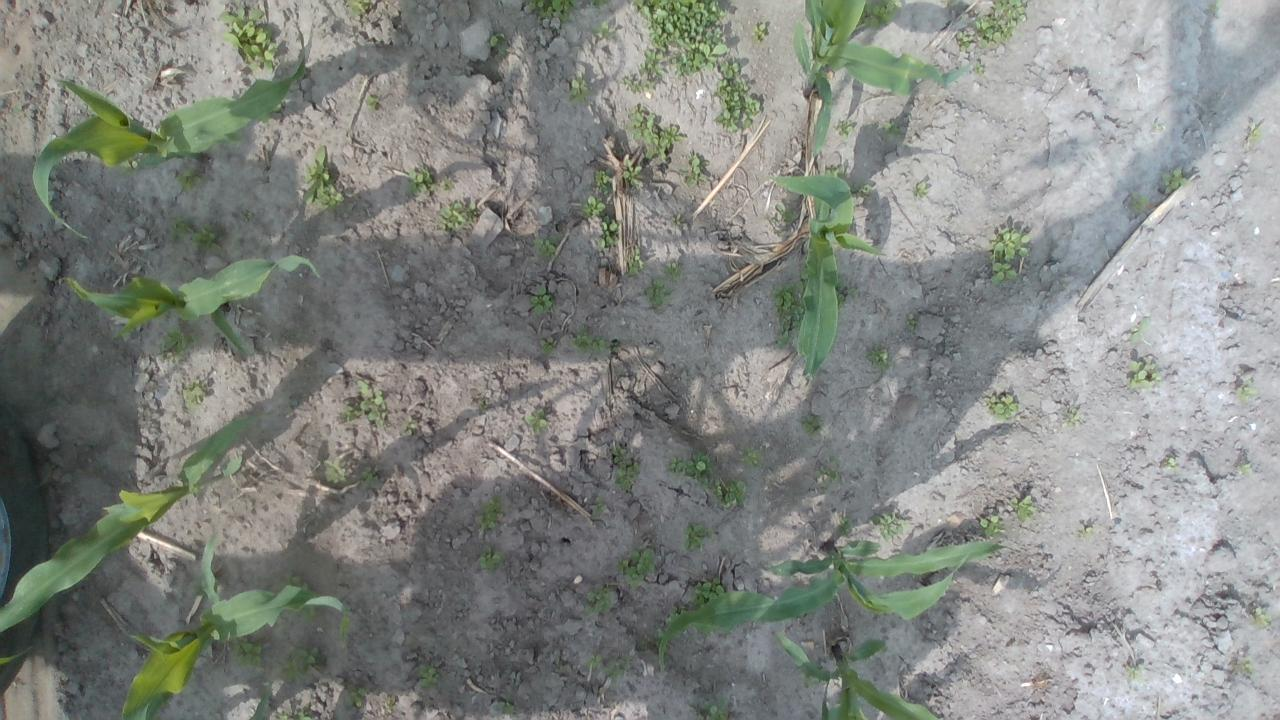Maize: (0, 414, 265, 665), (29, 27, 306, 242), (654, 539, 1001, 672), (118, 532, 350, 720), (59, 252, 323, 354), (795, 0, 958, 159), (778, 169, 886, 394), (772, 627, 945, 720), (242, 682, 274, 720)
Weeds: (632, 0, 730, 83), (216, 6, 276, 72), (712, 59, 762, 134), (625, 105, 685, 163), (300, 144, 346, 210), (984, 227, 1032, 285), (972, 0, 1026, 49), (770, 281, 806, 349), (278, 644, 326, 684), (666, 450, 716, 486), (156, 327, 200, 365), (616, 546, 654, 589), (358, 380, 388, 429), (570, 327, 620, 356), (612, 442, 640, 492), (524, 0, 580, 24), (870, 511, 912, 543), (228, 636, 266, 671), (705, 477, 745, 510), (857, 0, 901, 28), (688, 576, 724, 610), (1126, 357, 1161, 390), (982, 392, 1019, 422), (176, 166, 214, 194), (474, 494, 502, 532), (437, 202, 475, 230), (190, 222, 222, 254), (682, 521, 714, 553), (689, 696, 730, 720), (180, 378, 208, 412), (768, 204, 796, 238), (815, 455, 840, 493), (584, 584, 613, 616), (833, 278, 860, 312), (678, 153, 706, 185), (408, 166, 437, 195), (566, 71, 590, 105), (474, 546, 503, 574), (603, 656, 632, 684), (646, 278, 674, 307), (866, 343, 892, 373), (530, 284, 554, 316), (320, 458, 348, 485), (166, 214, 193, 241), (1009, 495, 1036, 522), (534, 234, 560, 262), (598, 216, 618, 250), (1162, 168, 1188, 194), (117, 152, 142, 178), (1234, 378, 1260, 403), (525, 408, 548, 435), (980, 514, 1005, 538), (278, 570, 308, 590), (580, 195, 606, 218), (620, 75, 654, 92), (344, 684, 368, 708), (1128, 317, 1151, 342), (486, 31, 508, 57), (624, 160, 644, 188), (418, 664, 439, 690), (261, 102, 283, 126), (800, 415, 824, 437), (626, 248, 644, 276), (593, 168, 612, 194), (740, 446, 764, 466), (344, 0, 372, 17), (1250, 606, 1272, 627), (592, 20, 615, 40), (849, 178, 873, 197), (1061, 405, 1080, 428), (664, 606, 685, 626), (835, 120, 855, 141), (360, 464, 379, 486), (836, 514, 852, 538), (799, 670, 820, 688), (1132, 190, 1148, 213), (400, 416, 418, 436), (882, 120, 902, 138), (956, 30, 972, 52), (339, 404, 359, 421), (663, 262, 680, 282), (1126, 665, 1144, 683), (1247, 121, 1262, 142), (299, 606, 316, 624), (752, 23, 766, 44), (585, 654, 603, 670), (1076, 522, 1094, 538), (540, 336, 556, 354), (590, 496, 605, 515), (824, 164, 844, 178), (192, 580, 207, 598), (1240, 657, 1254, 676), (912, 182, 928, 198), (363, 93, 378, 109), (906, 312, 918, 332), (498, 702, 516, 715), (1164, 456, 1178, 472), (588, 0, 610, 10), (799, 260, 809, 282), (442, 173, 454, 191), (637, 638, 651, 653), (654, 628, 664, 647), (274, 710, 292, 720), (294, 711, 314, 720), (1240, 461, 1252, 476), (1210, 0, 1224, 12), (240, 208, 252, 222), (974, 63, 986, 76), (671, 214, 681, 227), (555, 658, 565, 671), (13, 102, 23, 114)
